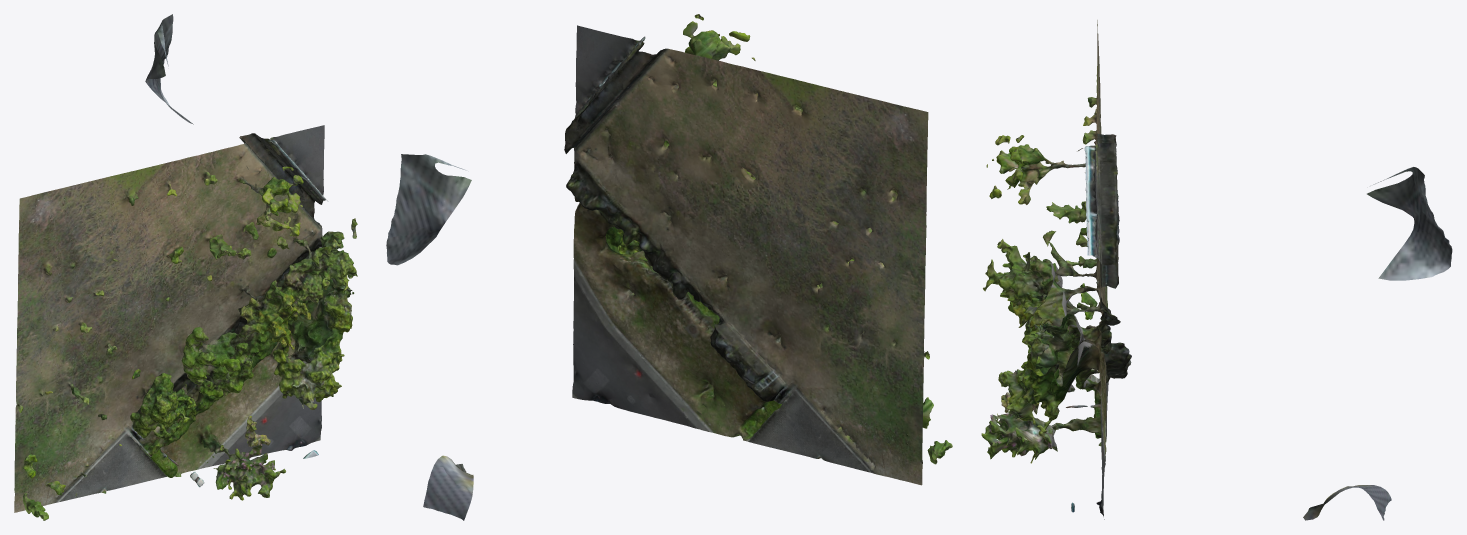
Rendered from Tile_+008_+015.fbx.
3 views of the same model, side by side, from view 1: azimuth 30°, elevation 25°; view 2: azimuth 150°, elevation 25°; view 3: azimuth 270°, elevation 25° (orthographic). The views are drawn at different scales.
Visible parts, largest first — view 1: DefaultName; view 2: DefaultName; view 3: DefaultName.
Boxes of the visible parts, x1,y1,x2,y2 form: DefaultName: (14, 14, 357, 520); DefaultName: (386, 14, 952, 520); DefaultName: (981, 20, 1452, 520).
Size of the model in its own units: 22.54 by 22.54 by 27.83.
